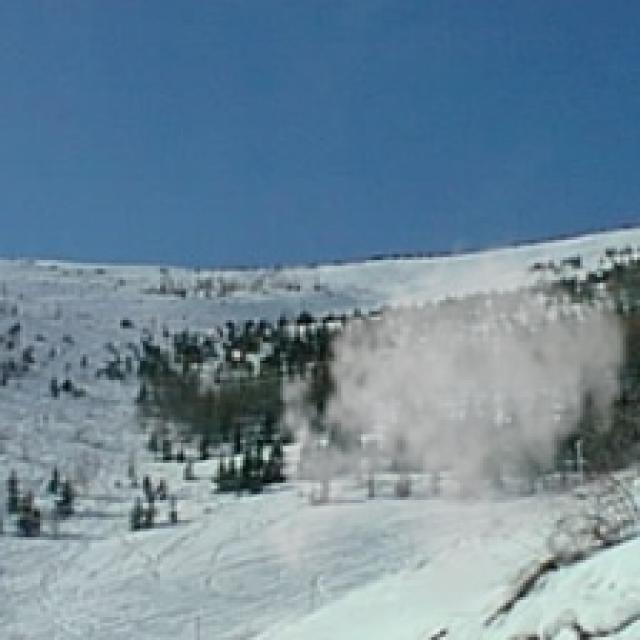Smoke: (252, 228, 637, 618)
